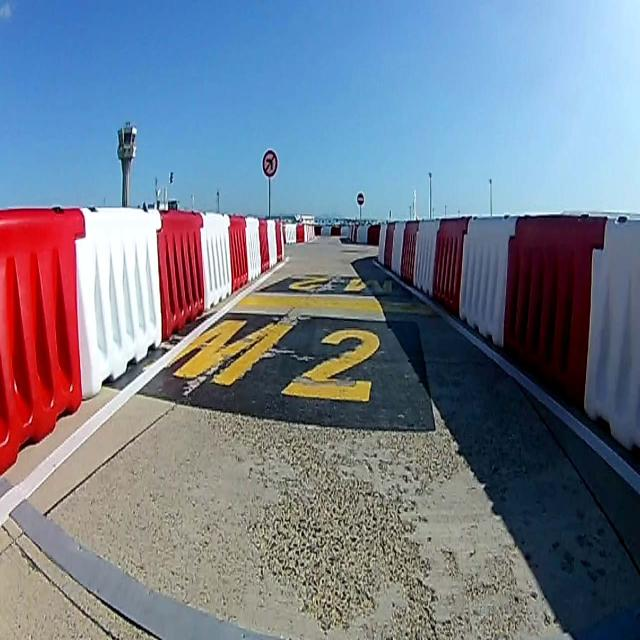soladonulmez: (263, 151, 277, 177)
